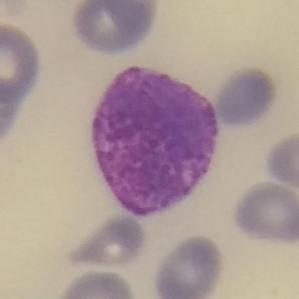Basophil: (80, 56, 228, 225)
RBC: (150, 232, 227, 299), (69, 0, 159, 57), (64, 213, 150, 271), (210, 64, 280, 132), (230, 179, 299, 247), (0, 19, 44, 105), (54, 267, 139, 299), (262, 130, 299, 192), (0, 74, 23, 149), (0, 0, 32, 23)
